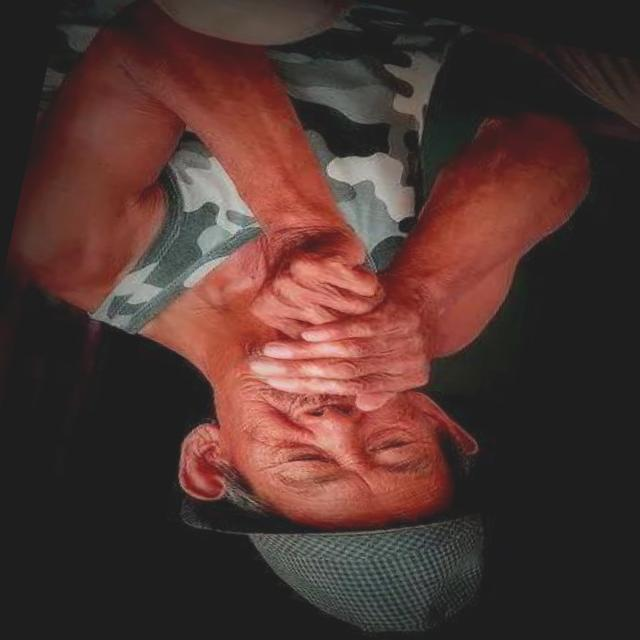cigarette: (230, 272, 400, 426)
